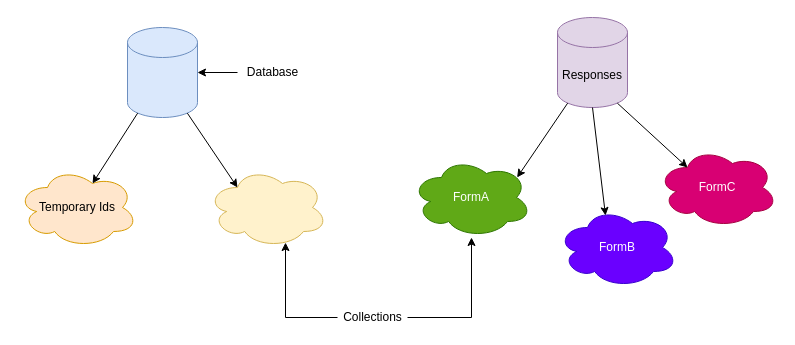
Image size: 795x345. Some labels were removed from this diagram. The centre of each missing label's shape, as x and y in pixels:
Layouts: point 162,72
Permanent Ids: point 267,207
